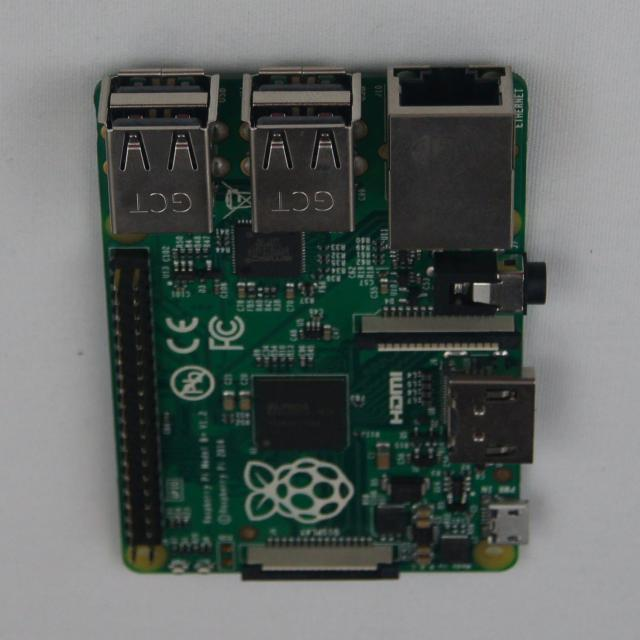Raspberry Pi 1 B-: (97, 66, 546, 580)
